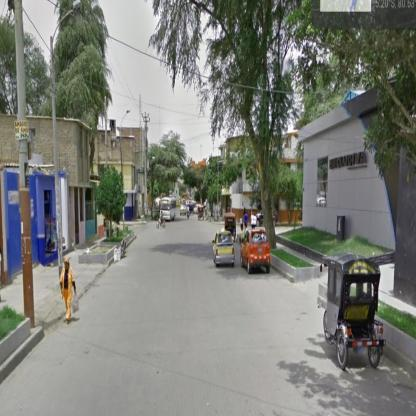Obstaculo: (114, 239, 127, 264)
Peaton: (60, 258, 78, 324), (242, 213, 249, 233)
Pista: (6, 212, 413, 383)
Vehiculo: (321, 253, 387, 371), (241, 230, 271, 275), (213, 232, 235, 268), (161, 198, 177, 223)
